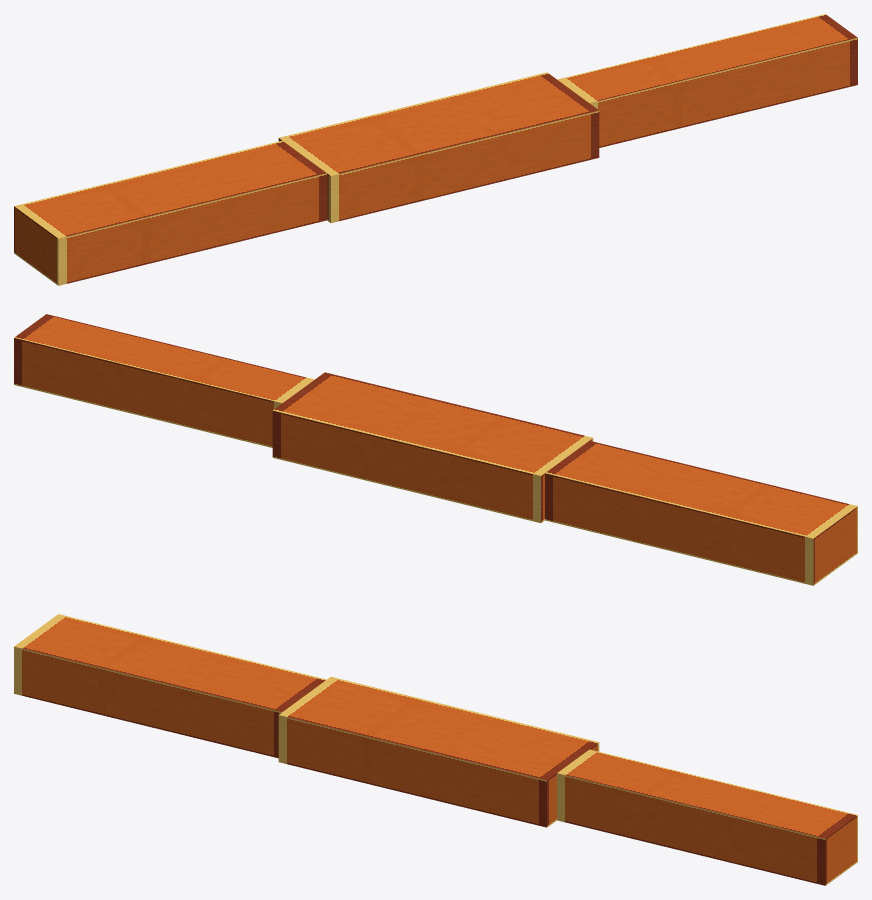
File: bench_sword_0_hot.obj
3 renders of one model, top to bottom at view 1: azimuth 30°, elevation 25°; view 2: azimuth 150°, elevation 25°; view 3: azimuth 330°, elevation 25°, orthographic.
Parts seen in each view (by area): view 1: geometry; view 2: geometry; view 3: geometry.
Boxes of the visible parts, x1,y1,x2,y2 form: geometry: [14, 14, 857, 285]; geometry: [14, 314, 857, 585]; geometry: [14, 614, 857, 885].
Bounding box in the file's own units: 0.75 × 0.042 × 0.0844.
